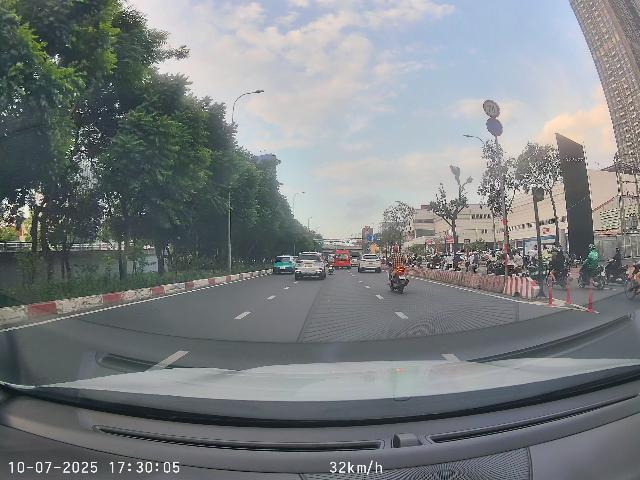127-toc-do-toi-da-70: (483, 99, 500, 118)
130-cam-dung-va-do-xe: (487, 118, 503, 136)
